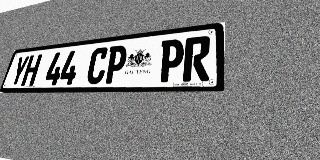4: (58, 50, 82, 85), (43, 51, 66, 85)
C: (85, 47, 110, 84)
H: (20, 54, 42, 86)
P: (157, 38, 185, 82), (103, 45, 128, 84)
R: (182, 35, 211, 82)
Y: (9, 56, 30, 86)
